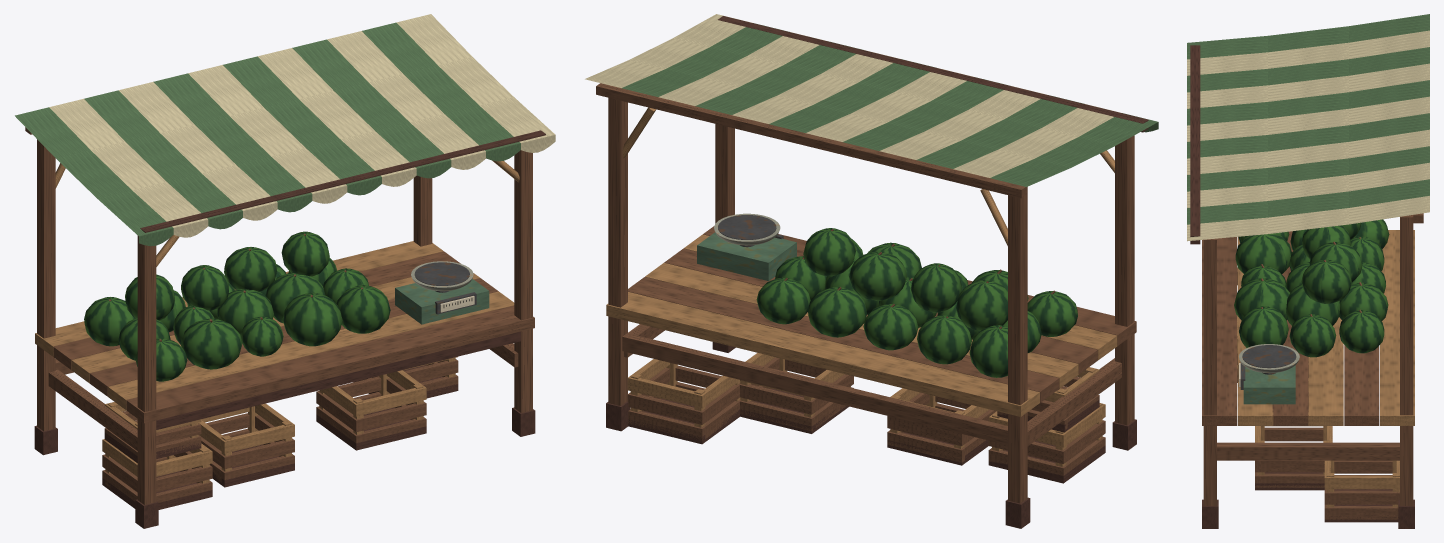
Rendered from scene-stall.glb.
3 views of the same model, side by side, from view 1: azimuth 30°, elevation 25°; view 2: azimuth 150°, elevation 25°; view 3: azimuth 270°, elevation 25° (orthographic). The views are drawn at different scales.
Visible parts, largest first — view 1: scene-stall; view 2: scene-stall; view 3: scene-stall.
Boxes of the visible parts, left/top/right/bottom form: scene-stall: left=15, top=14, right=555, bottom=528; scene-stall: left=585, top=14, right=1158, bottom=528; scene-stall: left=1187, top=14, right=1429, bottom=528.
Size of the model in its own units: 2.9 by 2.2 by 1.5.
3 materials, 3 textured.
